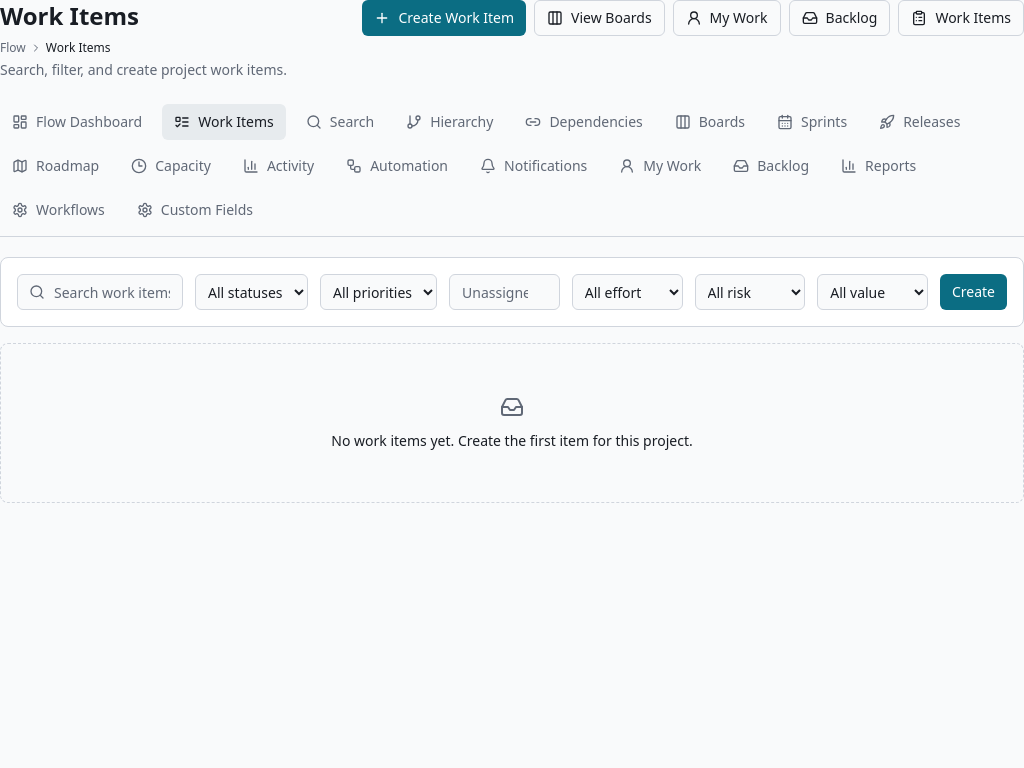
Test case: Flow frontend screens › blocks work item creation when no project is selected
Click the button "Create Work Item". click: (444, 18)
box: top-left (362, 0), bottom-right (526, 36)
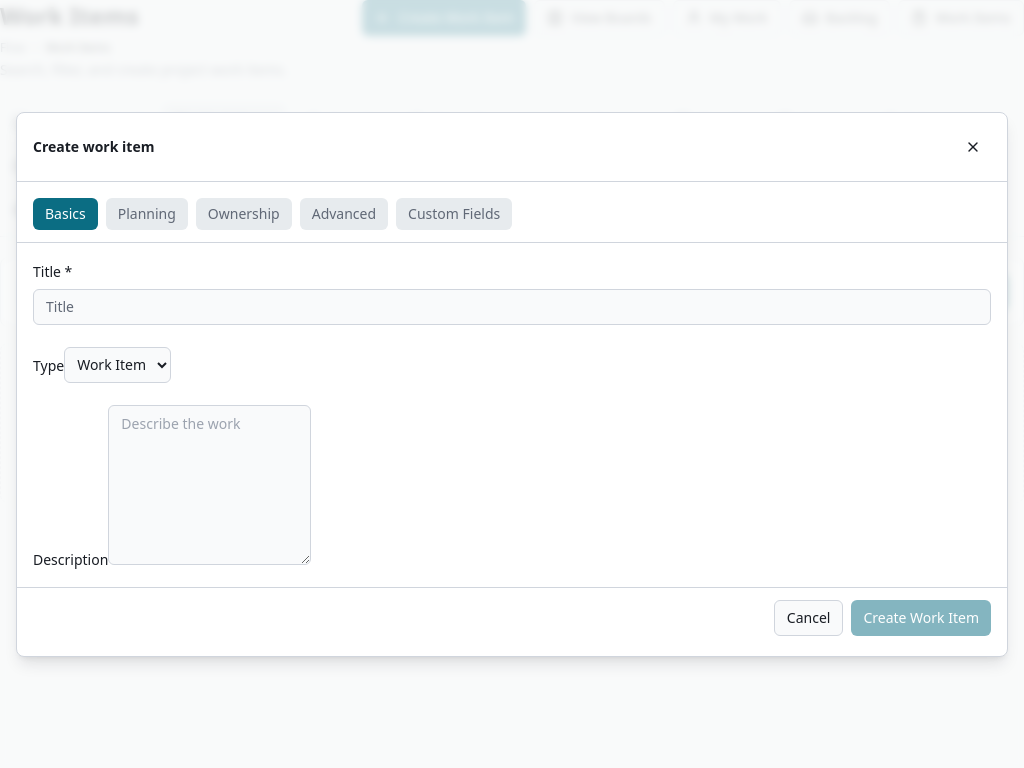
Type "Blocked item" into the field named "Work item title". click: (512, 306)
box: top-left (33, 288), bottom-right (991, 324)
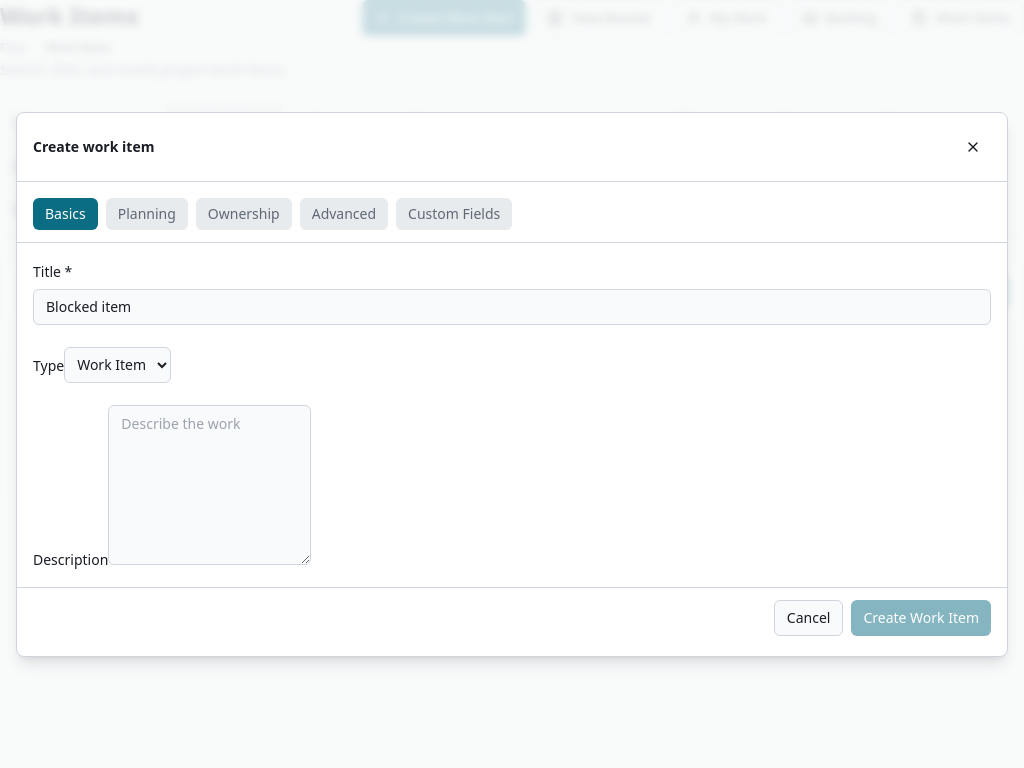
Submit the form, box top-left (33, 198), bottom-right (991, 640)
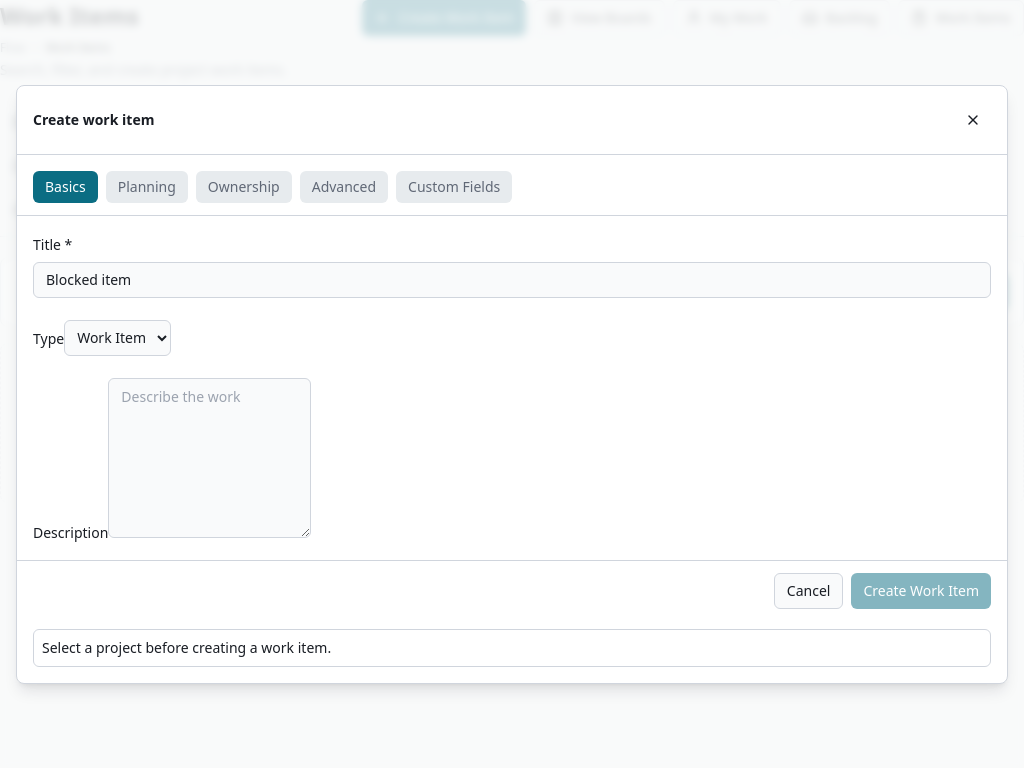
Result: the text "Select a project before creating a work item." is shown at top-left (33, 628), bottom-right (991, 666)
